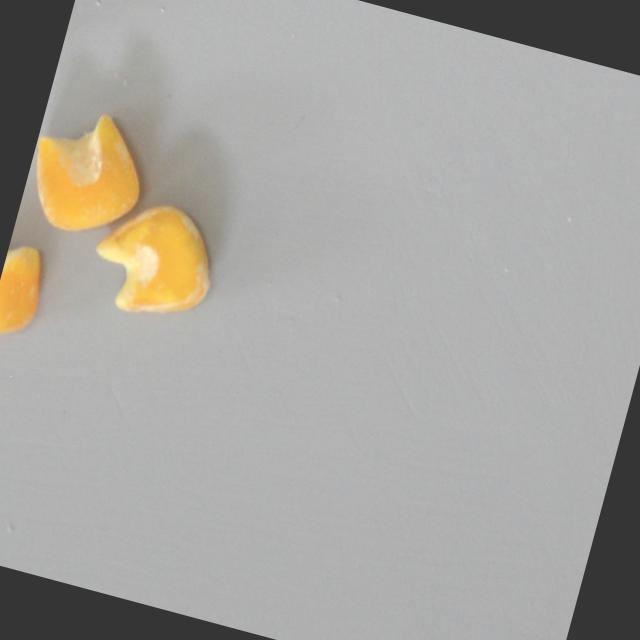dañado: (16, 91, 160, 248), (78, 184, 231, 331), (0, 226, 59, 346)
